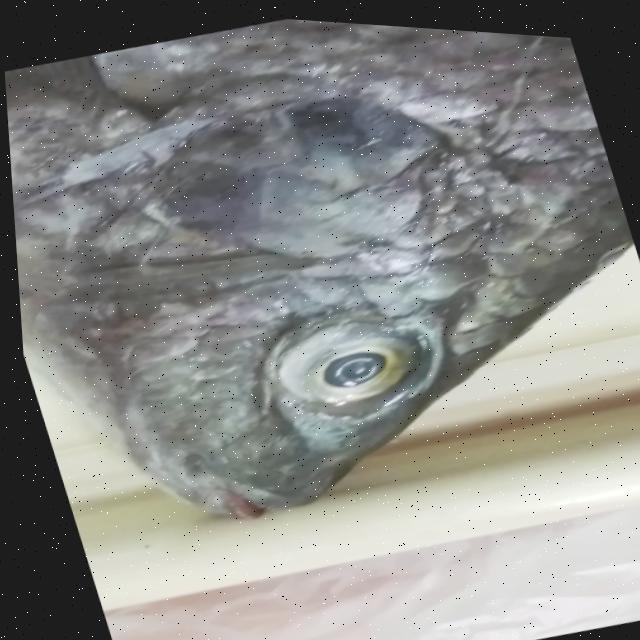Non-Fresh: (228, 264, 461, 450)
